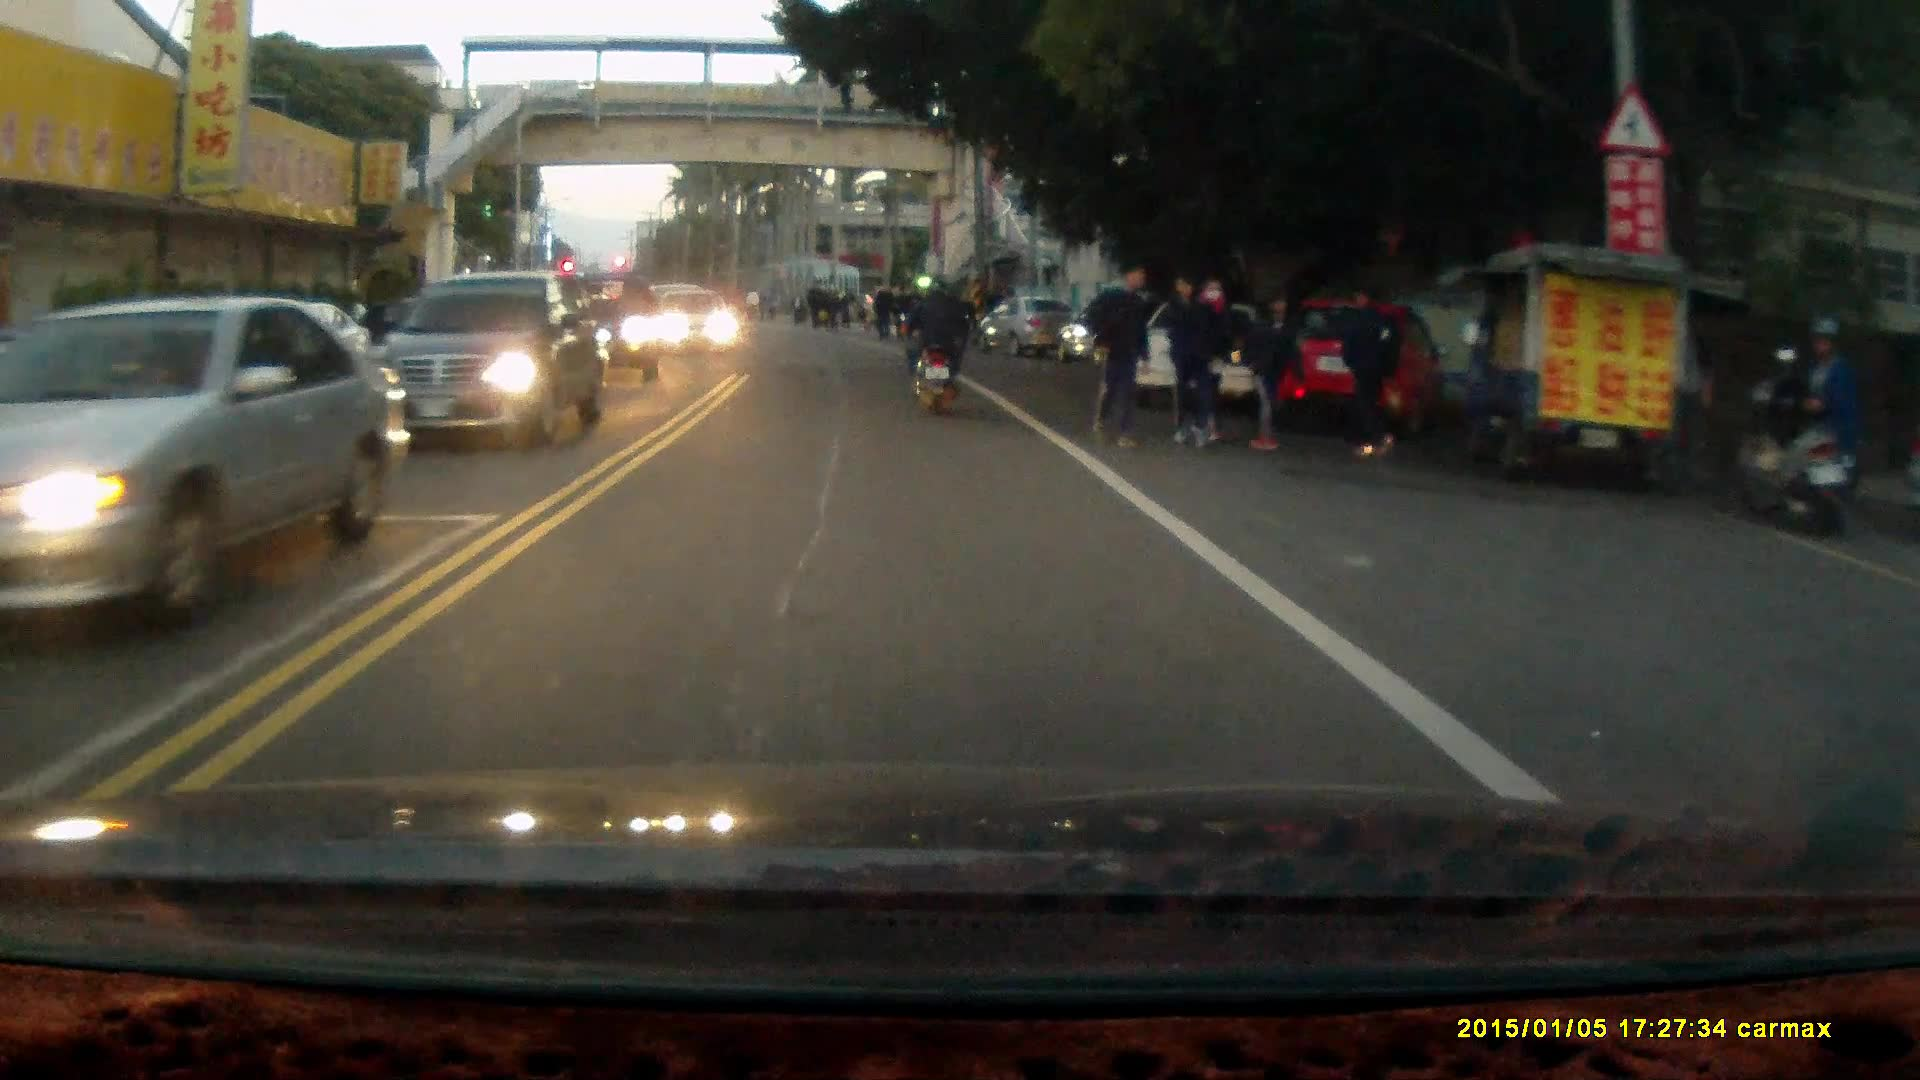pedestrian: (1084, 251, 1157, 450), (1803, 305, 1868, 509), (1335, 279, 1404, 460), (1239, 286, 1307, 452), (1190, 272, 1250, 447), (1164, 265, 1223, 449)
rider: (896, 273, 968, 419)
vehicle: (7, 295, 389, 659), (376, 269, 607, 446), (1254, 294, 1443, 435), (1130, 295, 1326, 427), (538, 271, 665, 386), (659, 290, 747, 358), (982, 296, 1075, 359)
